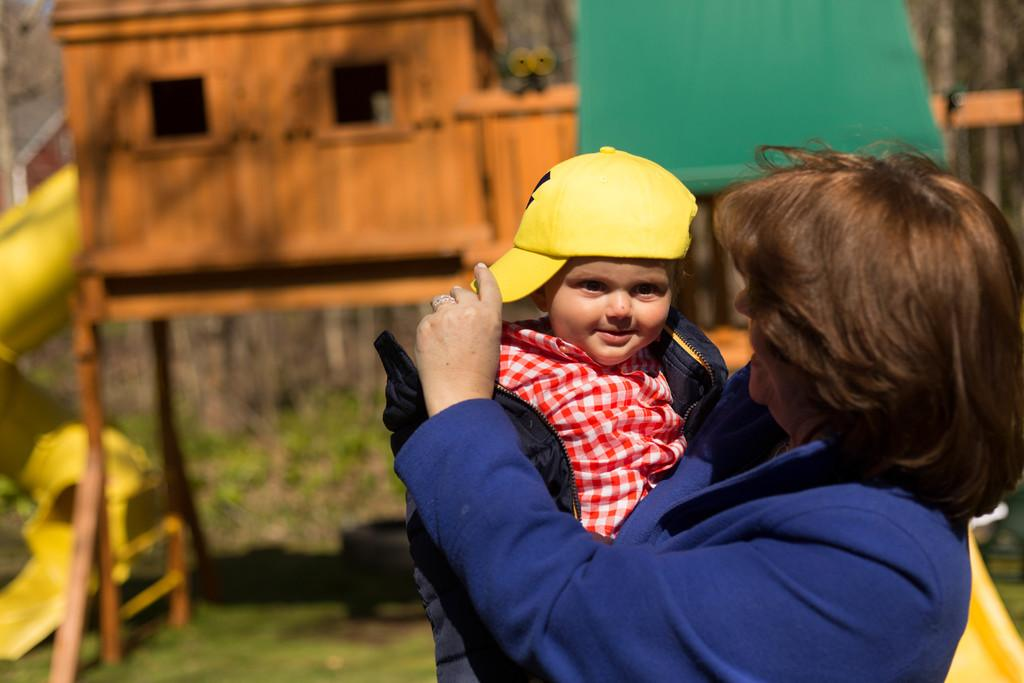Hat: (470, 142, 696, 304)
